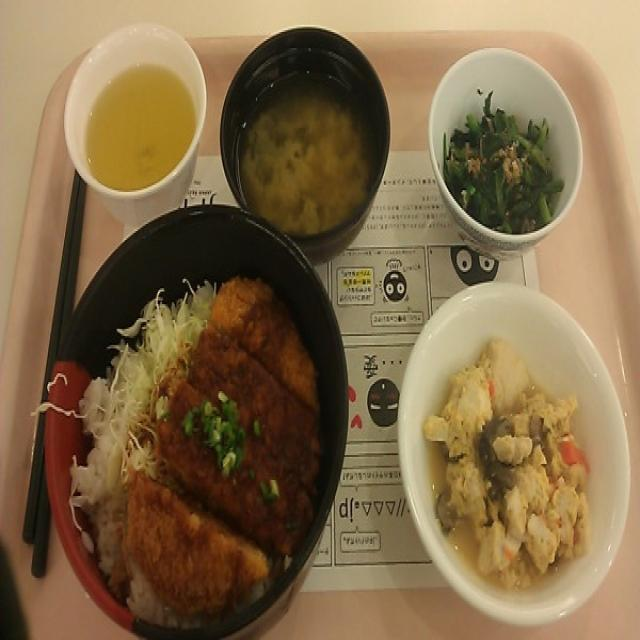汤锅炖物: (217, 21, 384, 233)
